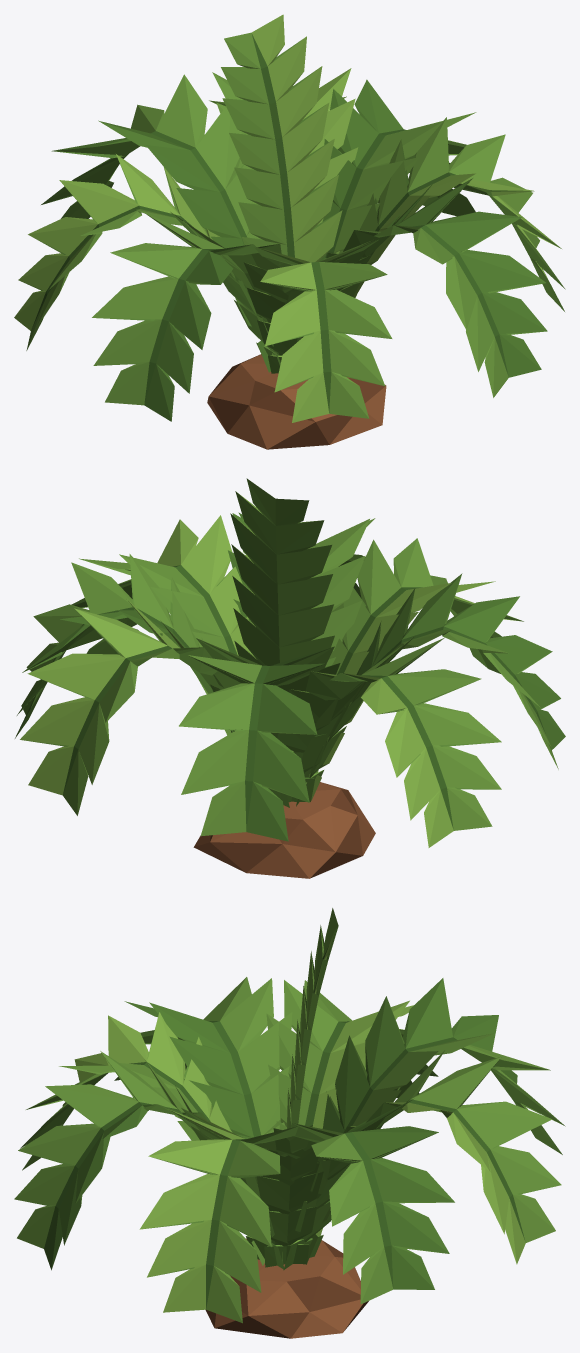
File: FMS_Plant_Fern.fbx
3 renders of one model, top to bottom at view 1: azimuth 30°, elevation 25°; view 2: azimuth 150°, elevation 25°; view 3: azimuth 270°, elevation 25°, orthographic.
Parts seen in each view (by area): view 1: FMS_Plant_Fern; view 2: FMS_Plant_Fern; view 3: FMS_Plant_Fern.
Boxes of the visible parts, x1,y1,x2,y2 form: FMS_Plant_Fern: (14, 14, 565, 449); FMS_Plant_Fern: (15, 478, 565, 878); FMS_Plant_Fern: (14, 908, 565, 1338).
Size of the model in its own units: 0.8112 by 0.6196 by 0.8154.
